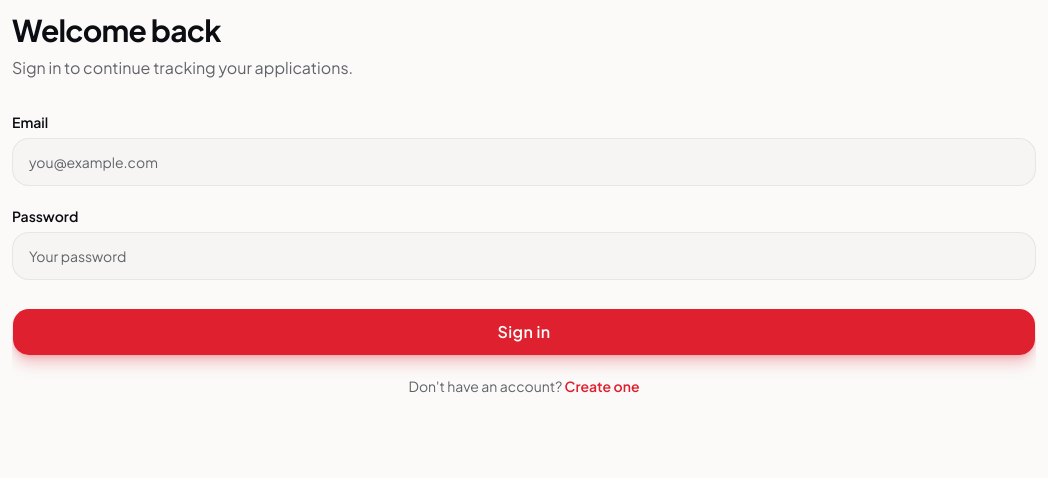
Test case: LoginForm › shows generic error on login failure
The width and height of the screenshot is (1048, 478).
In the field labelled "Email": coordinates (524, 162) [12,138,1036,186], type "user@example.com"
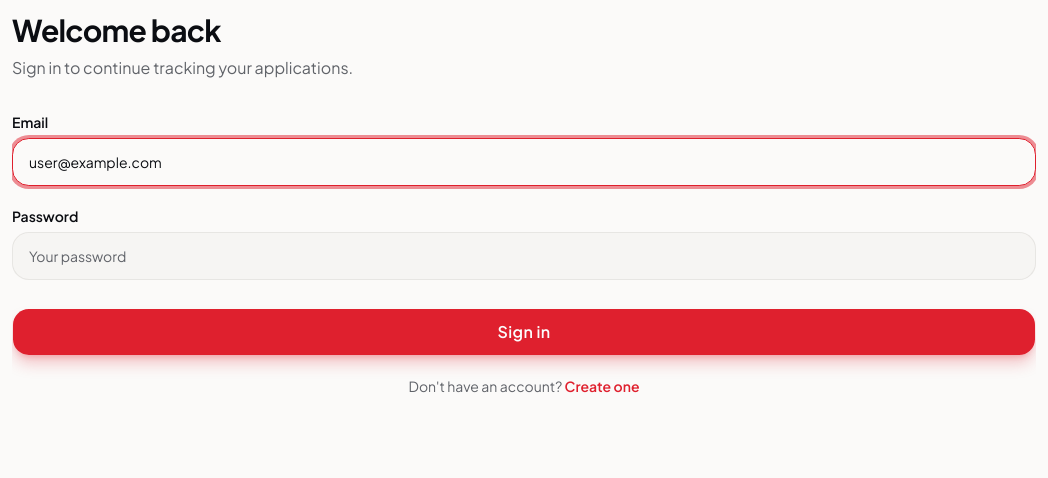
In the password field labelled "Password": coordinates (524, 256) [12,232,1036,280], type "wrongpassword1"
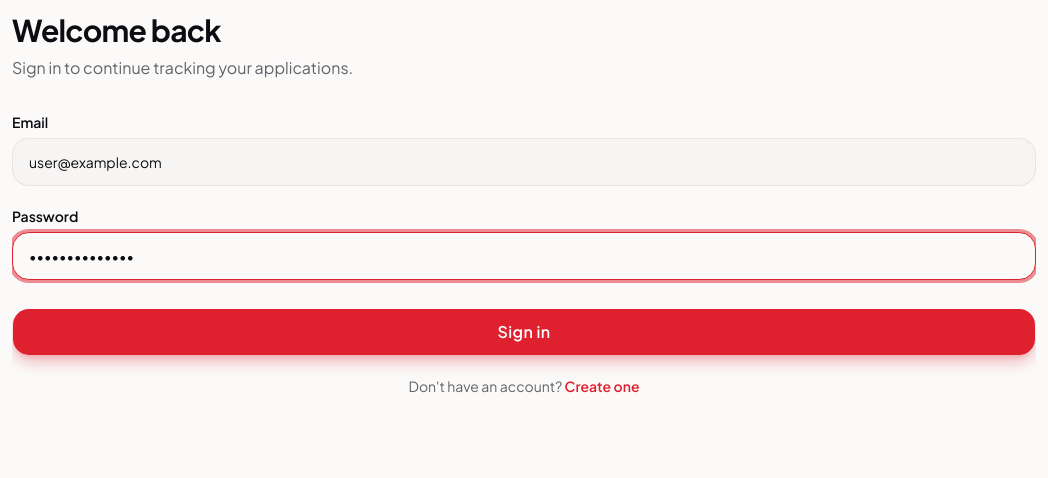
Click the button "Sign in": coordinates (524, 332) [12,308,1036,356]
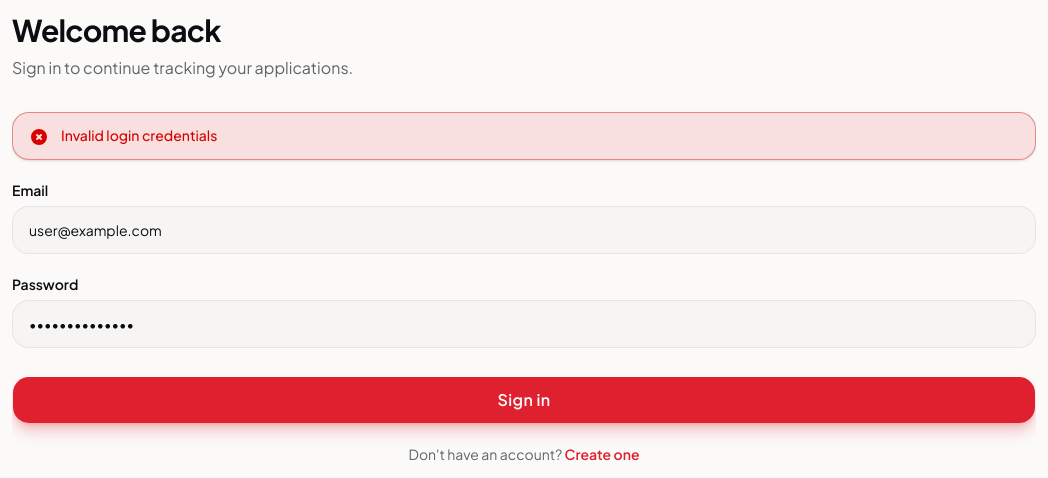
Check: the text "Invalid login credentials" is shown, box [61,125,217,145]
